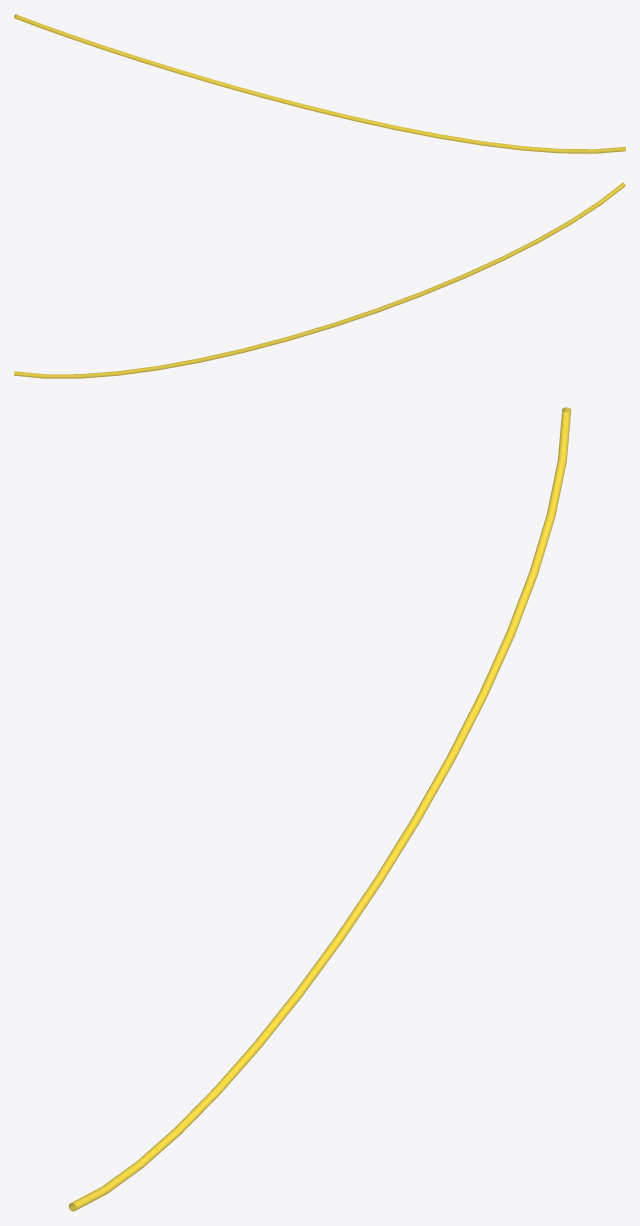
Rendered from Event_75125125_track_26.fbx.
3 renders of one model, top to bottom at view 1: azimuth 30°, elevation 25°; view 2: azimuth 210°, elevation 25°; view 3: azimuth 270°, elevation 25°, orthographic. The views are drawn at different scales.
Parts seen in each view (by area): view 1: Model; view 2: Model; view 3: Model.
Boxes of the visible parts, bbox=[...] form: Model: bbox=[14, 14, 625, 153]; Model: bbox=[14, 182, 625, 378]; Model: bbox=[68, 407, 571, 1211].
Bounding box in the file's own units: 4.97 × 1.63 × 2.21.
